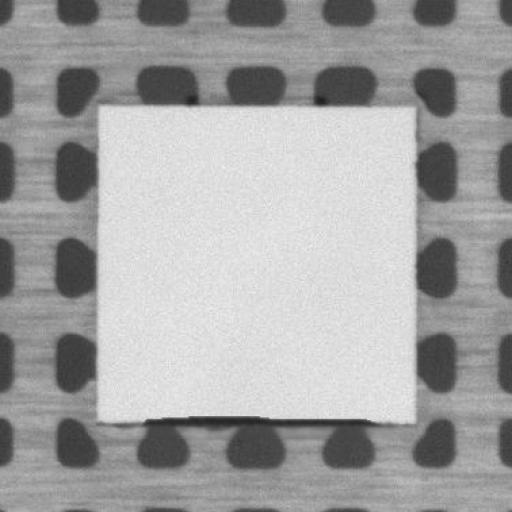DIE_BROKEN: (141, 407, 383, 427)
